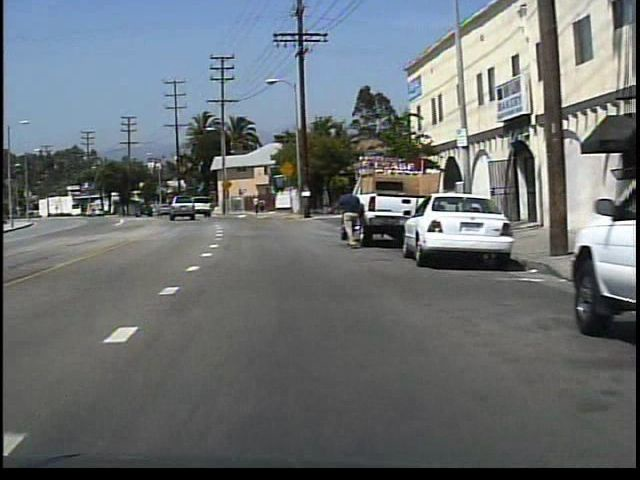person: (334, 184, 364, 251), (251, 195, 261, 217), (257, 197, 268, 216)
